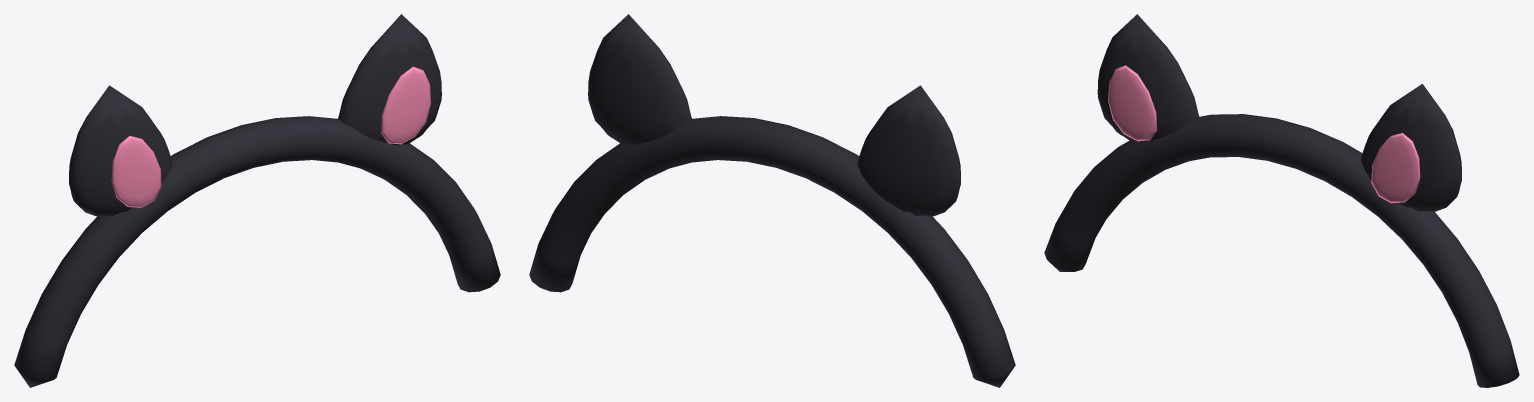
Rendered from gato.glb.
The picture shows the model from 3 angles, left to right: view 1: azimuth 30°, elevation 25°; view 2: azimuth 150°, elevation 25°; view 3: azimuth 330°, elevation 25°; orthographic projection. The views are drawn at different scales.
Visible parts, largest first — view 1: gato; view 2: gato; view 3: gato.
Boxes of the visible parts, x1=… form: gato: x1=14, y1=14, x2=500, y2=387; gato: x1=529, y1=14, x2=1015, y2=387; gato: x1=1044, y1=14, x2=1519, y2=387.
Bounding box in the file's own units: 1.12 × 0.648 × 0.1182.
